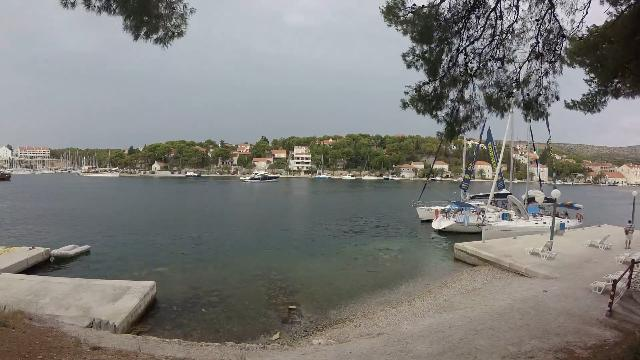speedboat: (234, 160, 282, 182)
